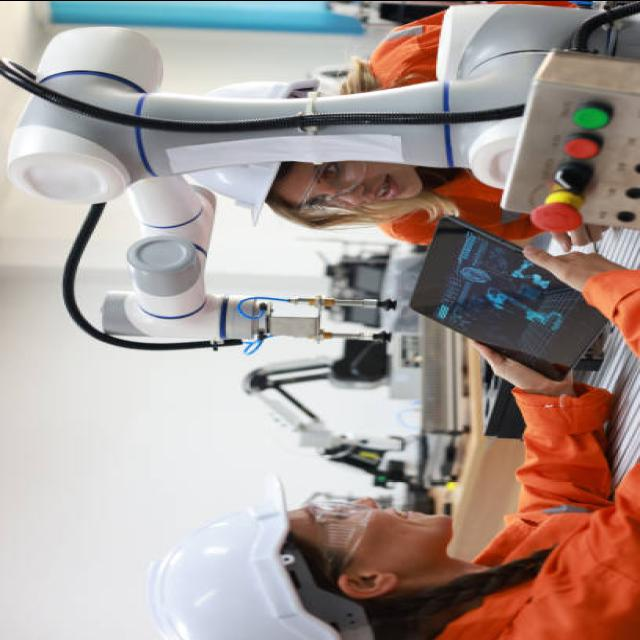Robotic-arm: (4, 0, 592, 347), (234, 352, 420, 486)
